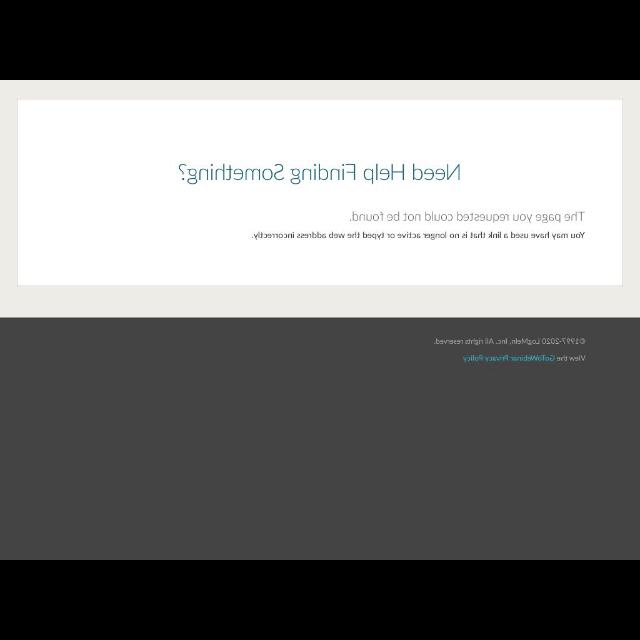link: (462, 354, 554, 362)
text: (176, 162, 462, 185), (349, 208, 585, 224), (250, 232, 582, 242), (434, 334, 588, 348), (458, 354, 586, 366)
